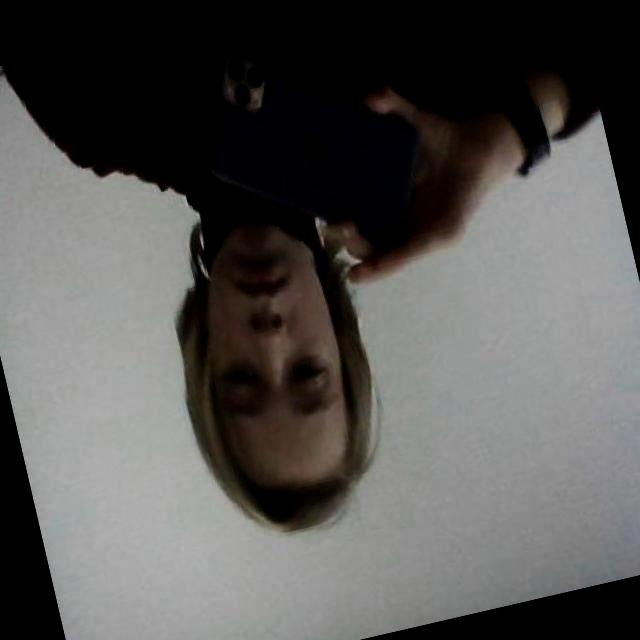phone: (206, 63, 424, 249)
